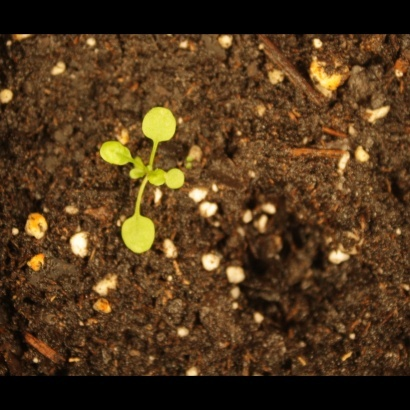leaf: (137, 97, 182, 149), (118, 208, 158, 259), (97, 137, 134, 171), (167, 163, 196, 193), (129, 156, 152, 179), (166, 169, 189, 192)
